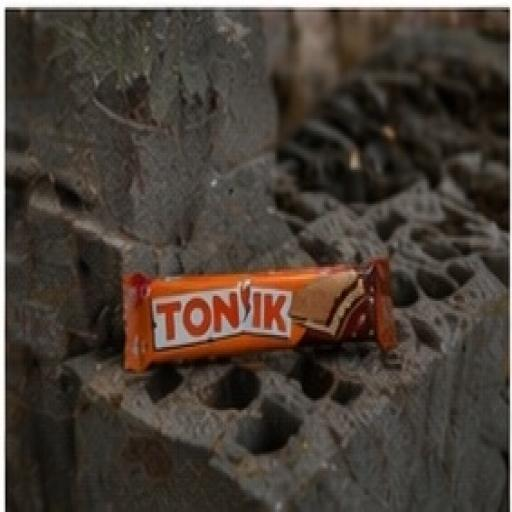tonik: (60, 176, 438, 421)
